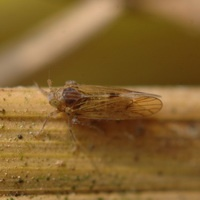insect: (48, 81, 162, 124)
